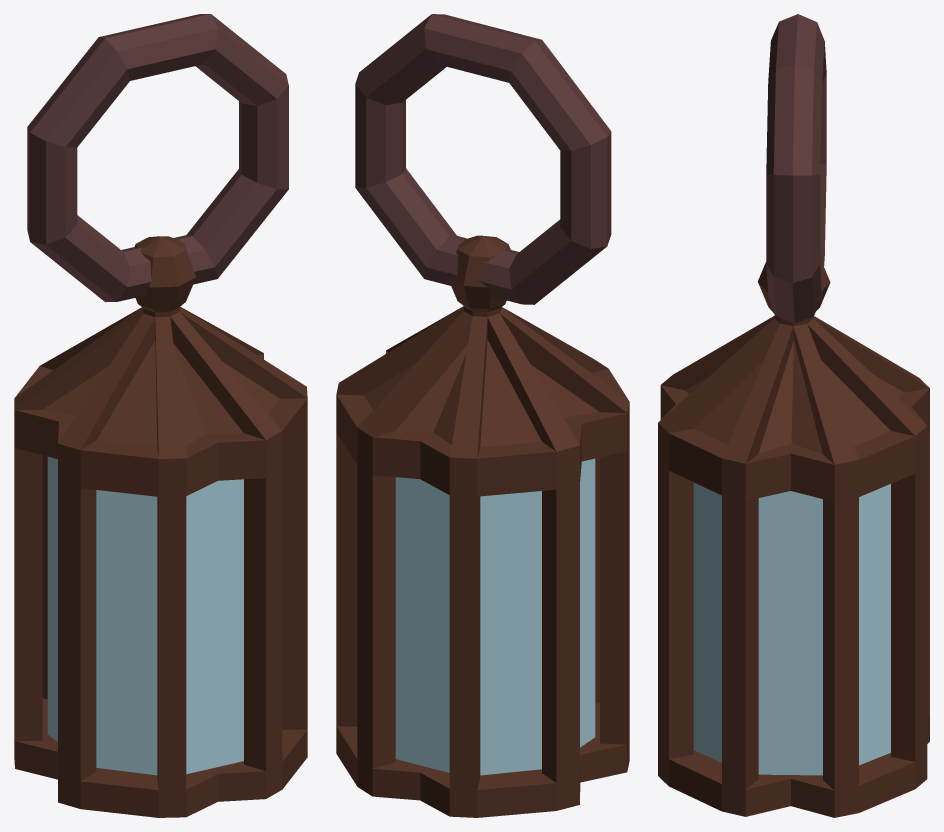
Rendered from Basic Lantern.fbx.
3 renders of one model, left to right at view 1: azimuth 30°, elevation 25°; view 2: azimuth 150°, elevation 25°; view 3: azimuth 270°, elevation 25°, orthographic.
Visible parts, largest first — view 1: Lantern1, Lantern1.001, LanternRing; view 2: Lantern1, Lantern1.001, LanternRing; view 3: Lantern1, Lantern1.001, LanternRing.
Boxes of the visible parts, left/top/right/bottom form: Lantern1: left=14, top=236, right=307, bottom=817; Lantern1.001: left=47, top=456, right=243, bottom=775; LanternRing: left=27, top=14, right=288, bottom=302; Lantern1: left=336, top=235, right=629, bottom=817; Lantern1.001: left=395, top=458, right=595, bottom=775; LanternRing: left=355, top=14, right=611, bottom=304; Lantern1: left=658, top=258, right=929, bottom=817; Lantern1.001: left=693, top=482, right=890, bottom=775; LanternRing: left=766, top=14, right=826, bottom=323.
Size of the model in its own units: 30.56 by 84.62 by 29.01.
